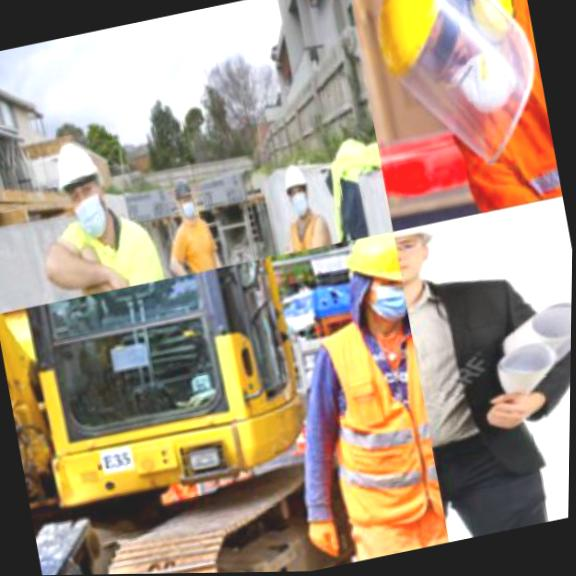safety_vest: (387, 0, 565, 221), (312, 314, 448, 546)
